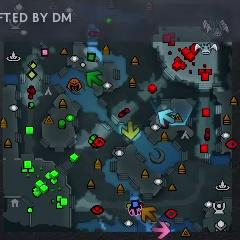x1: (152, 221, 170, 239)
x1Clone: (129, 204, 142, 216), (129, 208, 141, 216)
x2: (121, 121, 139, 139)
x3: (158, 108, 174, 126)
x4: (86, 71, 102, 87)
x5: (142, 206, 156, 223)
